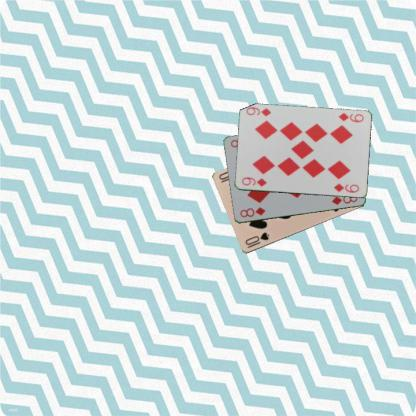10s: (243, 230, 270, 250)
8d: (237, 205, 266, 219)
9d: (239, 174, 268, 188), (336, 110, 364, 124)
